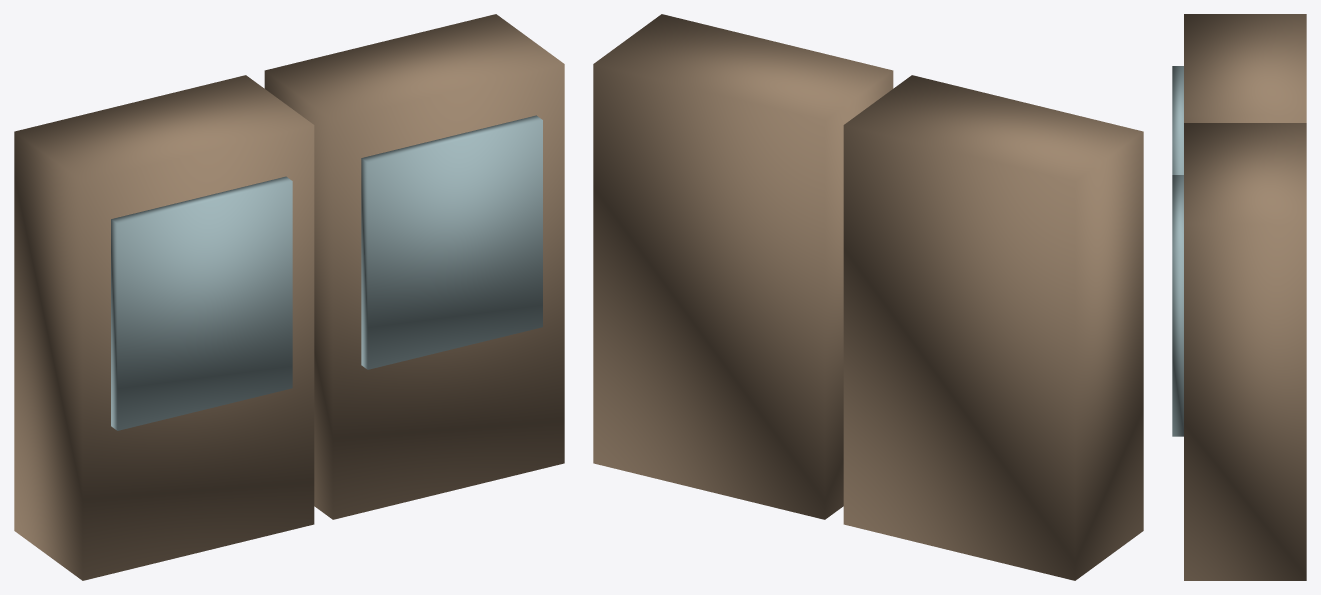
File: shrine_cabinet__cluster.glb
The picture shows the model from 3 angles, left to right: view 1: azimuth 30°, elevation 25°; view 2: azimuth 150°, elevation 25°; view 3: azimuth 270°, elevation 25°; orthographic projection. The views are drawn at different scales.
Parts seen in each view (by area): view 1: world; view 2: world; view 3: world.
Part boxes in pixels (x1=…): world: x1=14, y1=14, x2=564, y2=580; world: x1=593, y1=14, x2=1143, y2=580; world: x1=1172, y1=14, x2=1306, y2=580.
Size of the model in its own units: 1.71 by 1.35 by 0.46.
